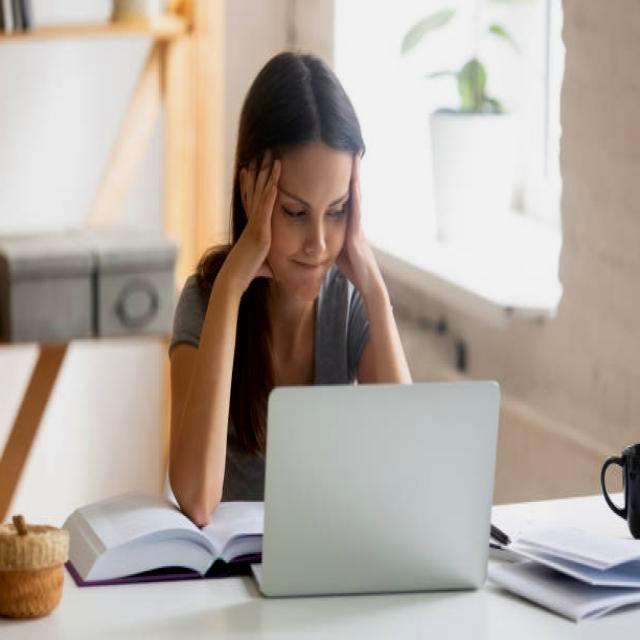Looking away: (256, 152, 354, 300)
